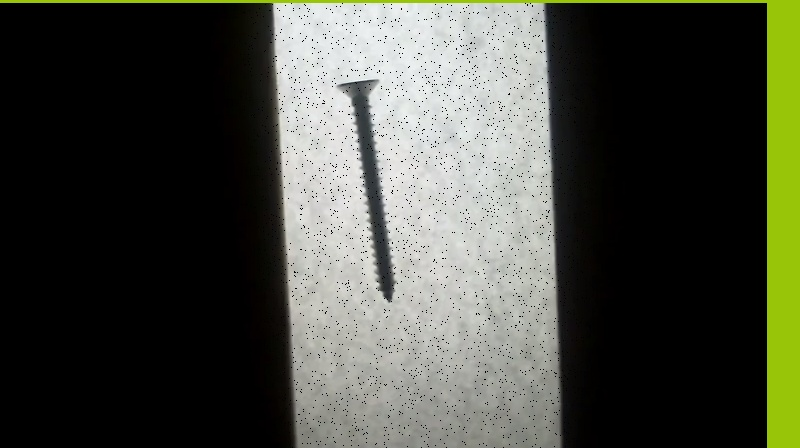S002: (334, 74, 399, 305)
